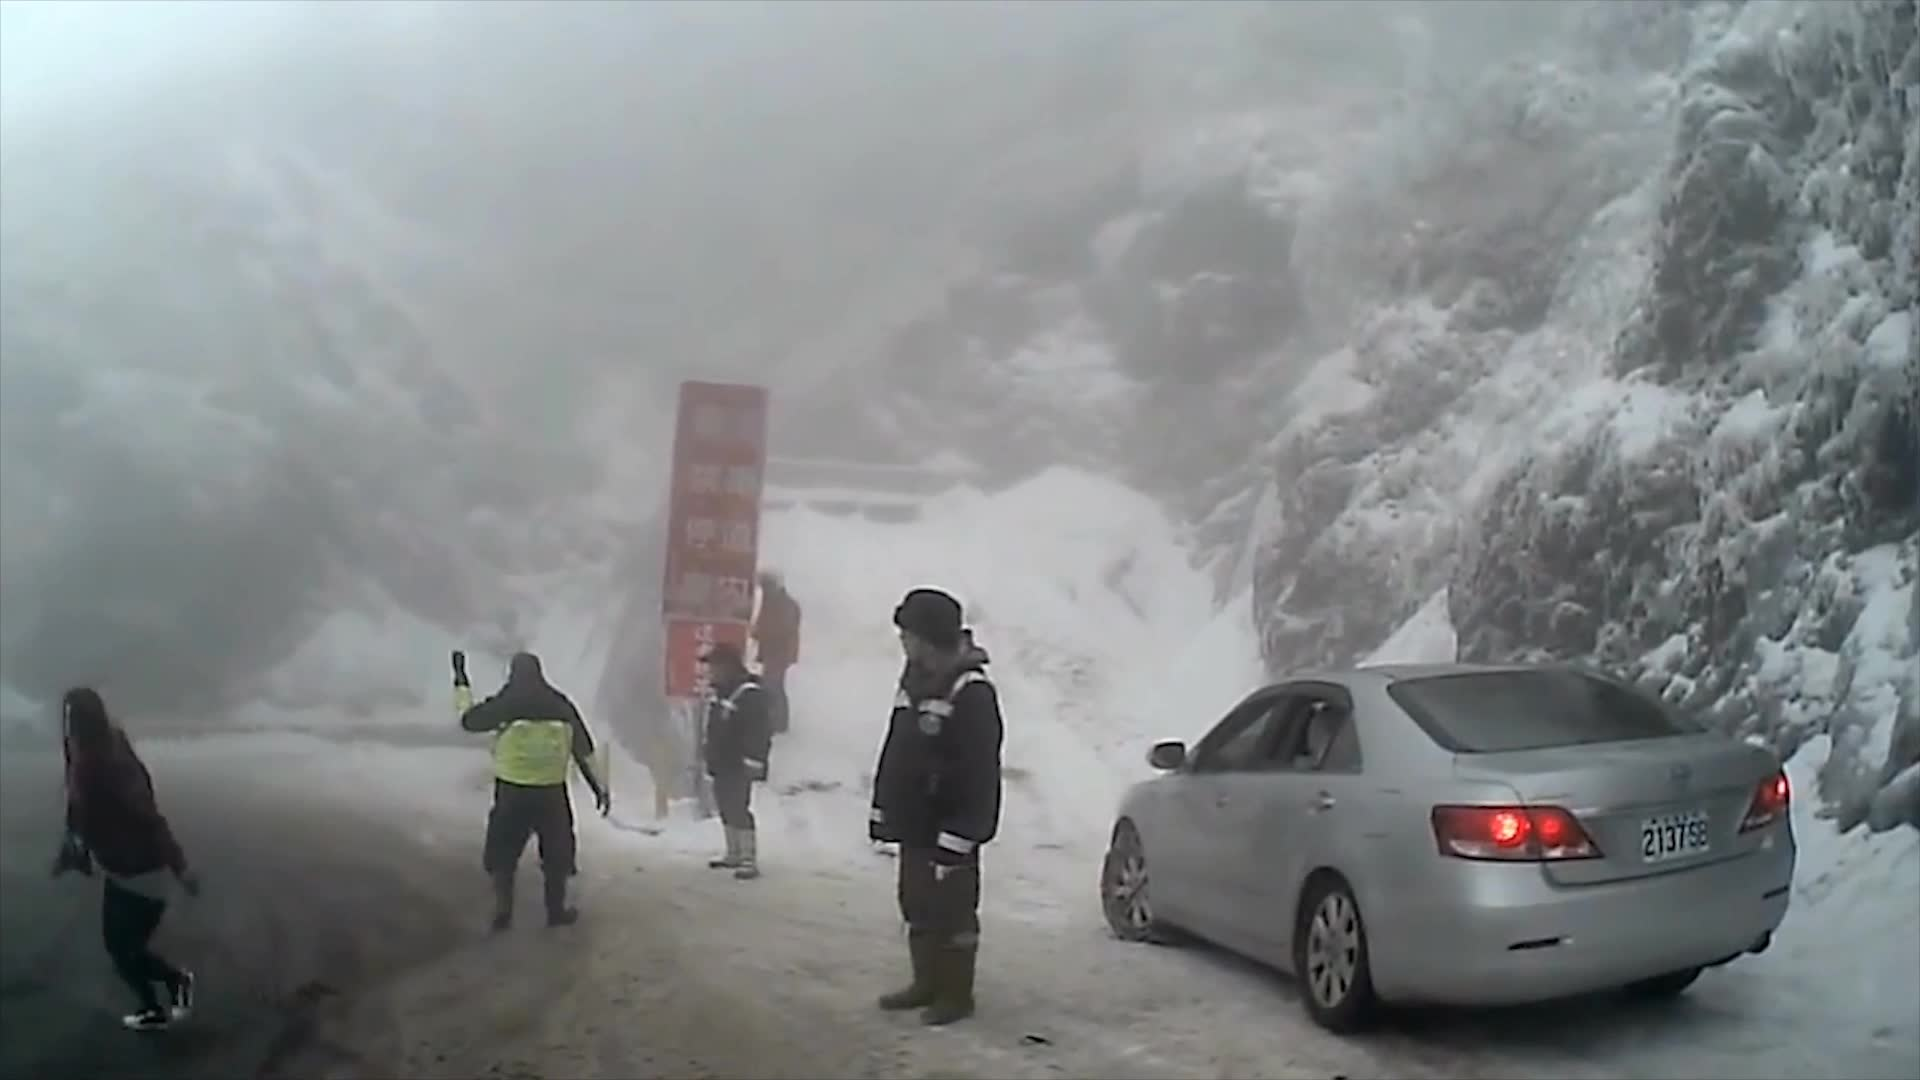pedestrian: (864, 589, 1014, 1029), (45, 684, 206, 1035), (440, 657, 605, 937), (697, 642, 780, 881), (743, 565, 810, 743)
vehicle: (1101, 659, 1796, 1031)
